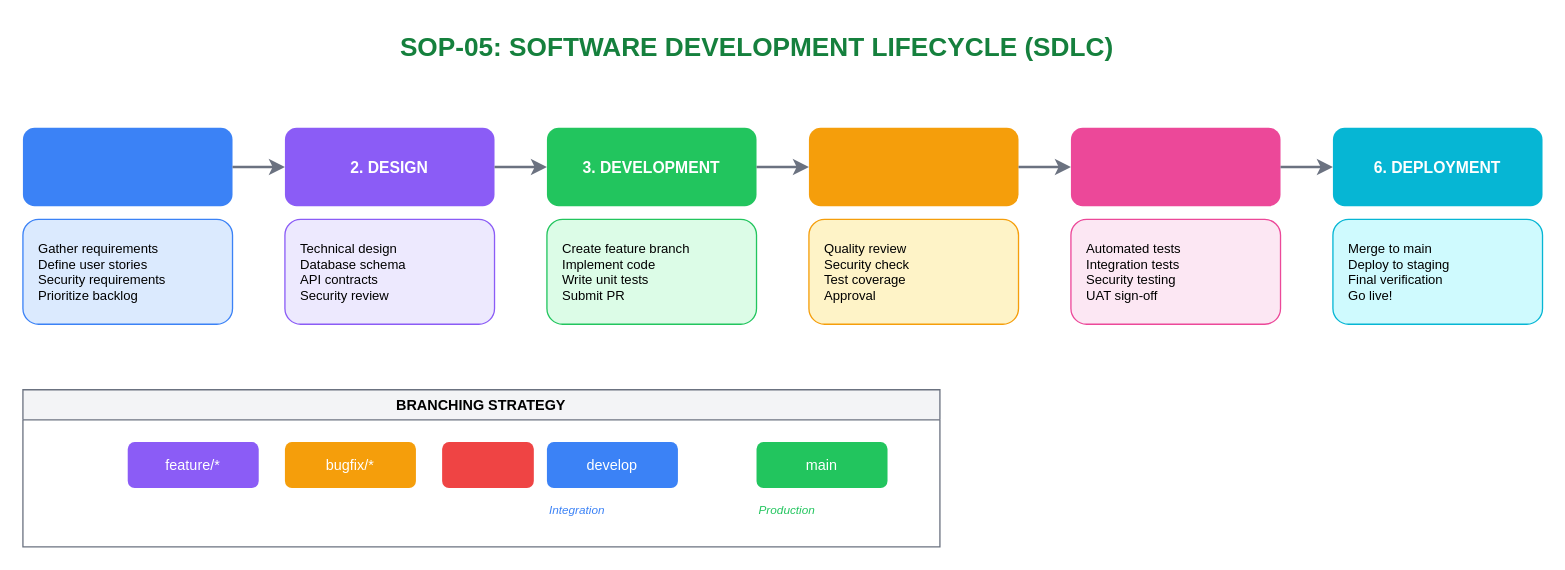
Image size: 1565x570. Some labels were removed from this diagram. Each missing label, with the centre of its shape:
1. REQUIREMENTS: [127,166]
4. CODE REVIEW: [913,166]
5. TESTING: [1175,166]
hotfix/*: [487,464]
